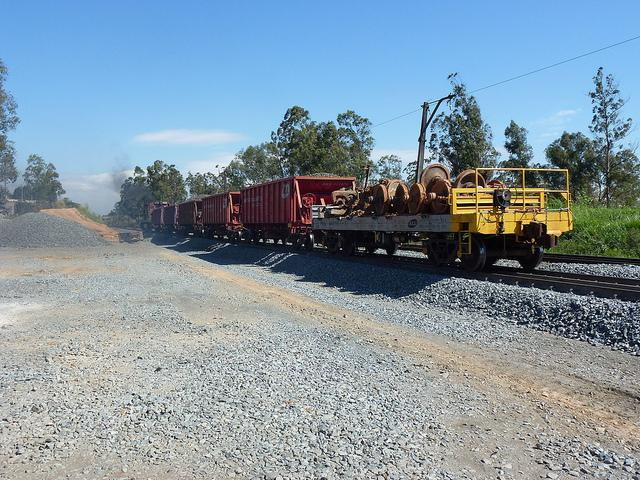Train: (143, 98, 576, 273)
